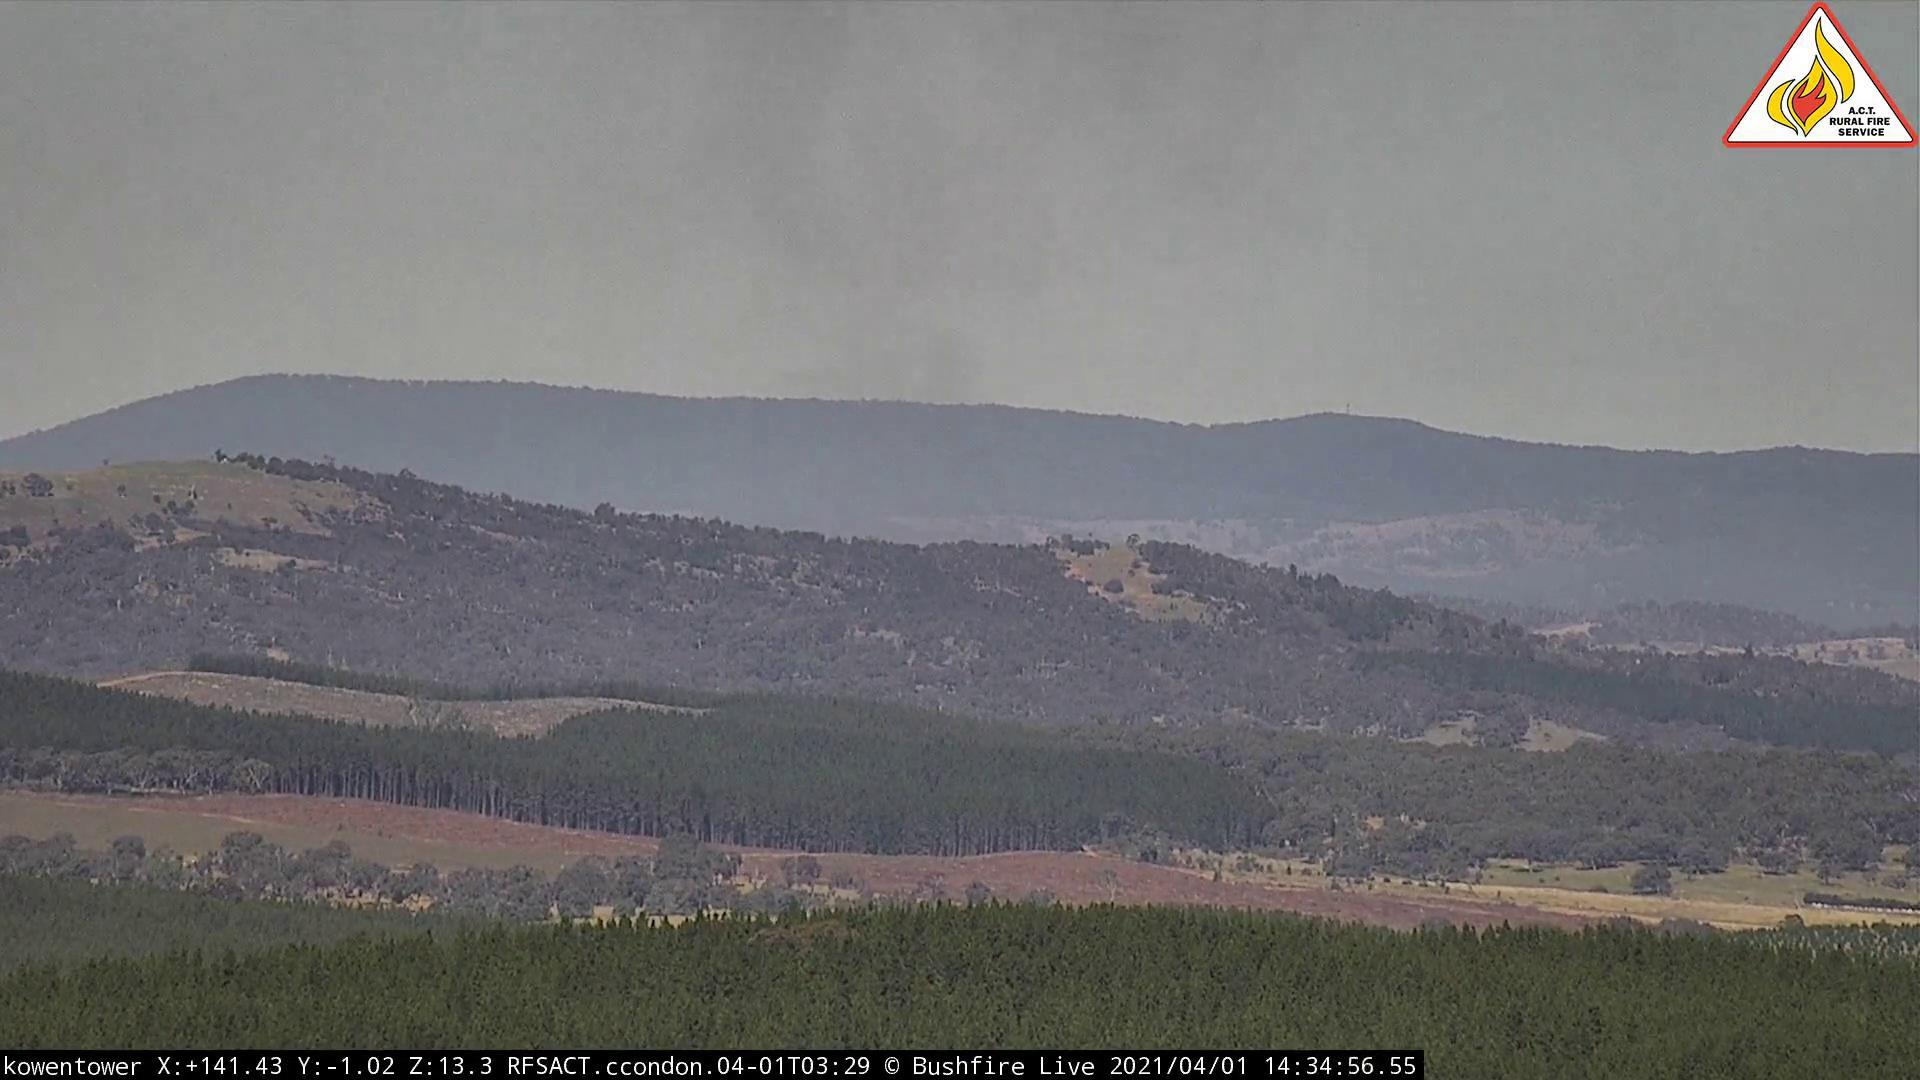Smoke: (644, 3, 1096, 480)
